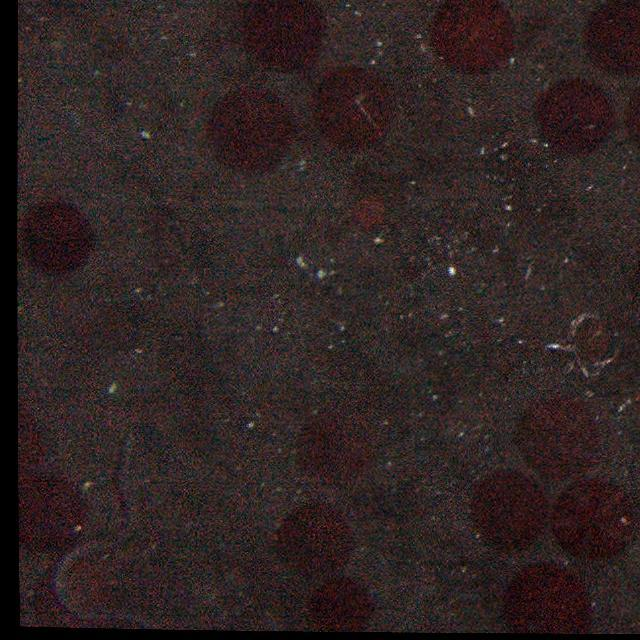eel: (53, 436, 173, 628)
